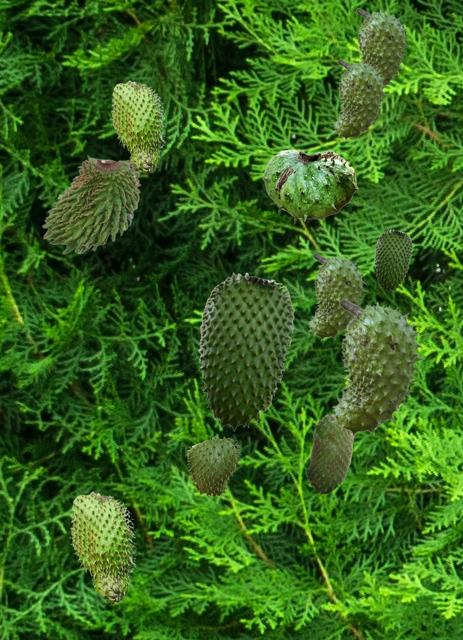guyabano: (198, 272, 293, 430), (330, 299, 425, 437), (41, 154, 140, 253), (69, 491, 136, 604), (262, 149, 357, 223), (307, 253, 367, 340), (110, 80, 165, 174), (332, 59, 387, 140), (355, 8, 410, 87), (306, 413, 354, 494), (187, 436, 240, 497), (374, 229, 411, 291)
